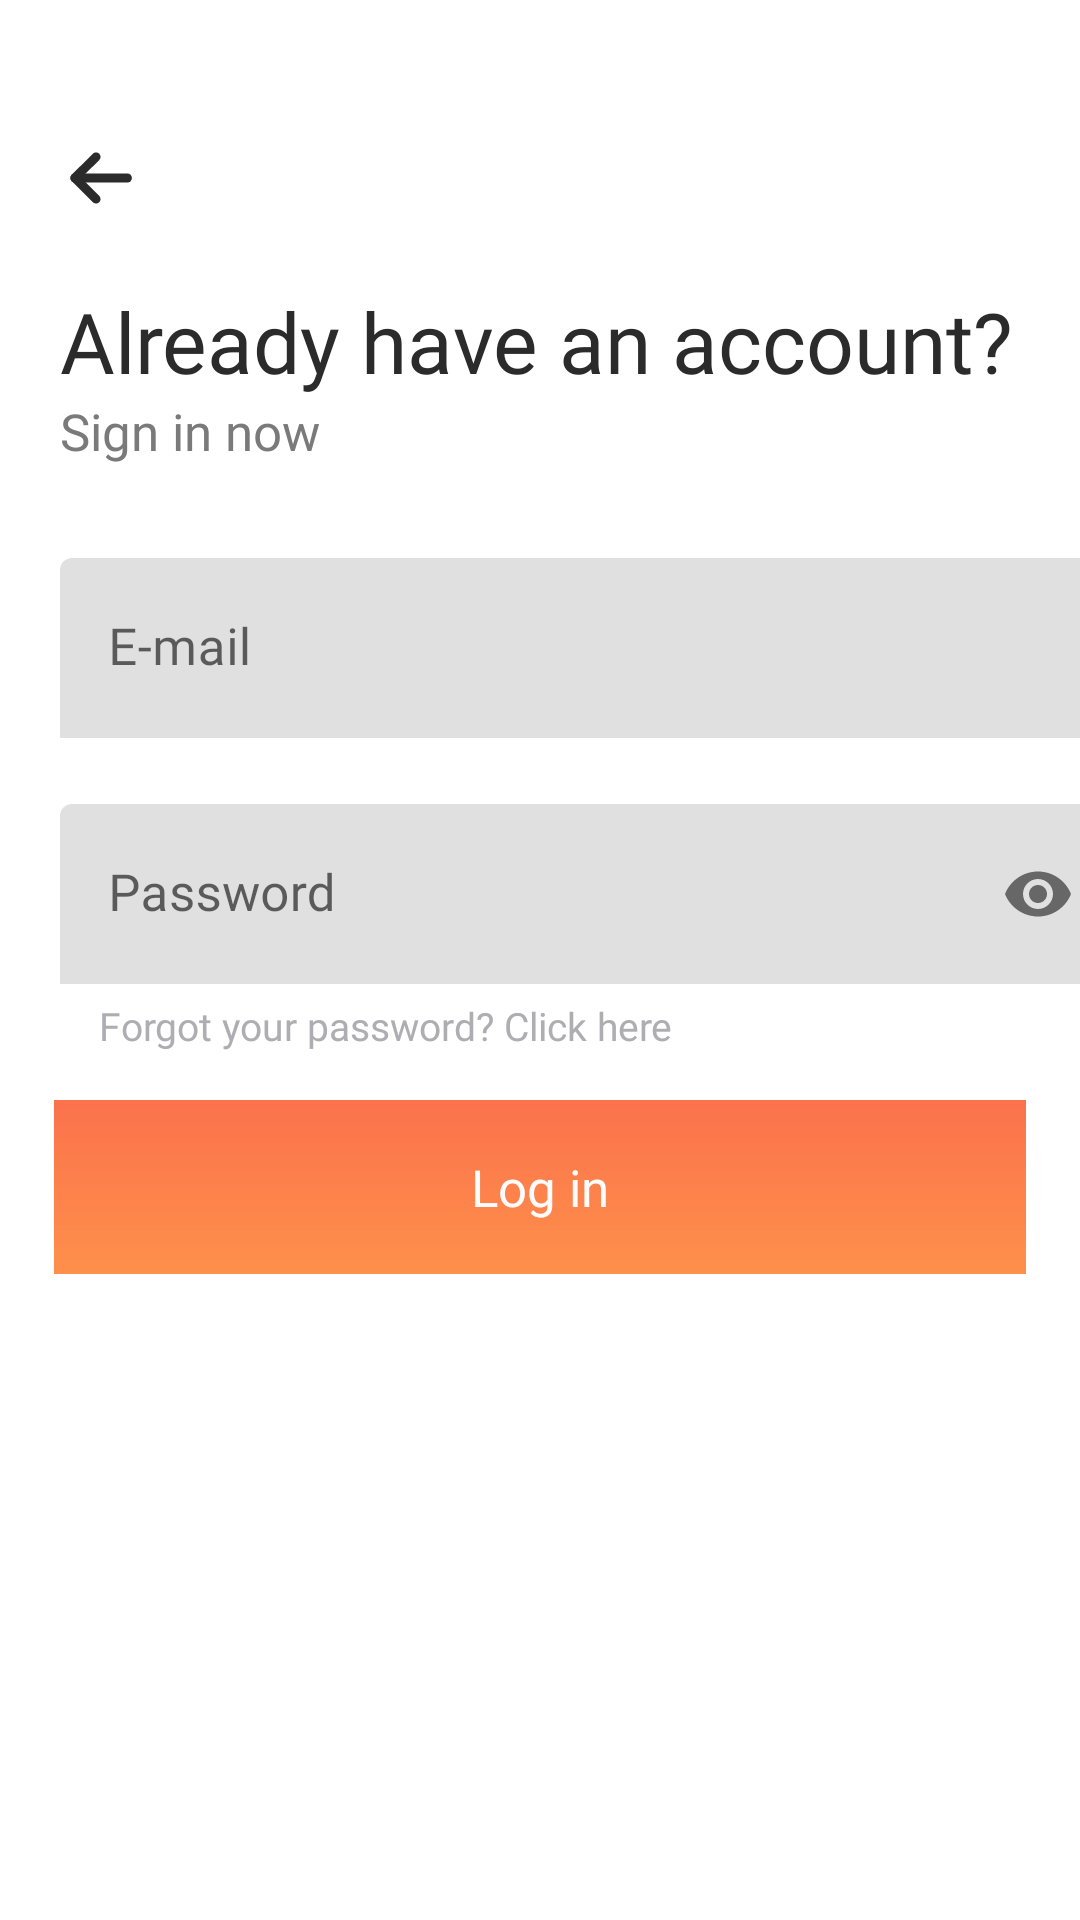

Where icons sit on this 1080px×1920px app screen, as (left=x1, top=y1, right=x2, bottom=y2):
return: (left=70, top=152, right=132, bottom=204)
